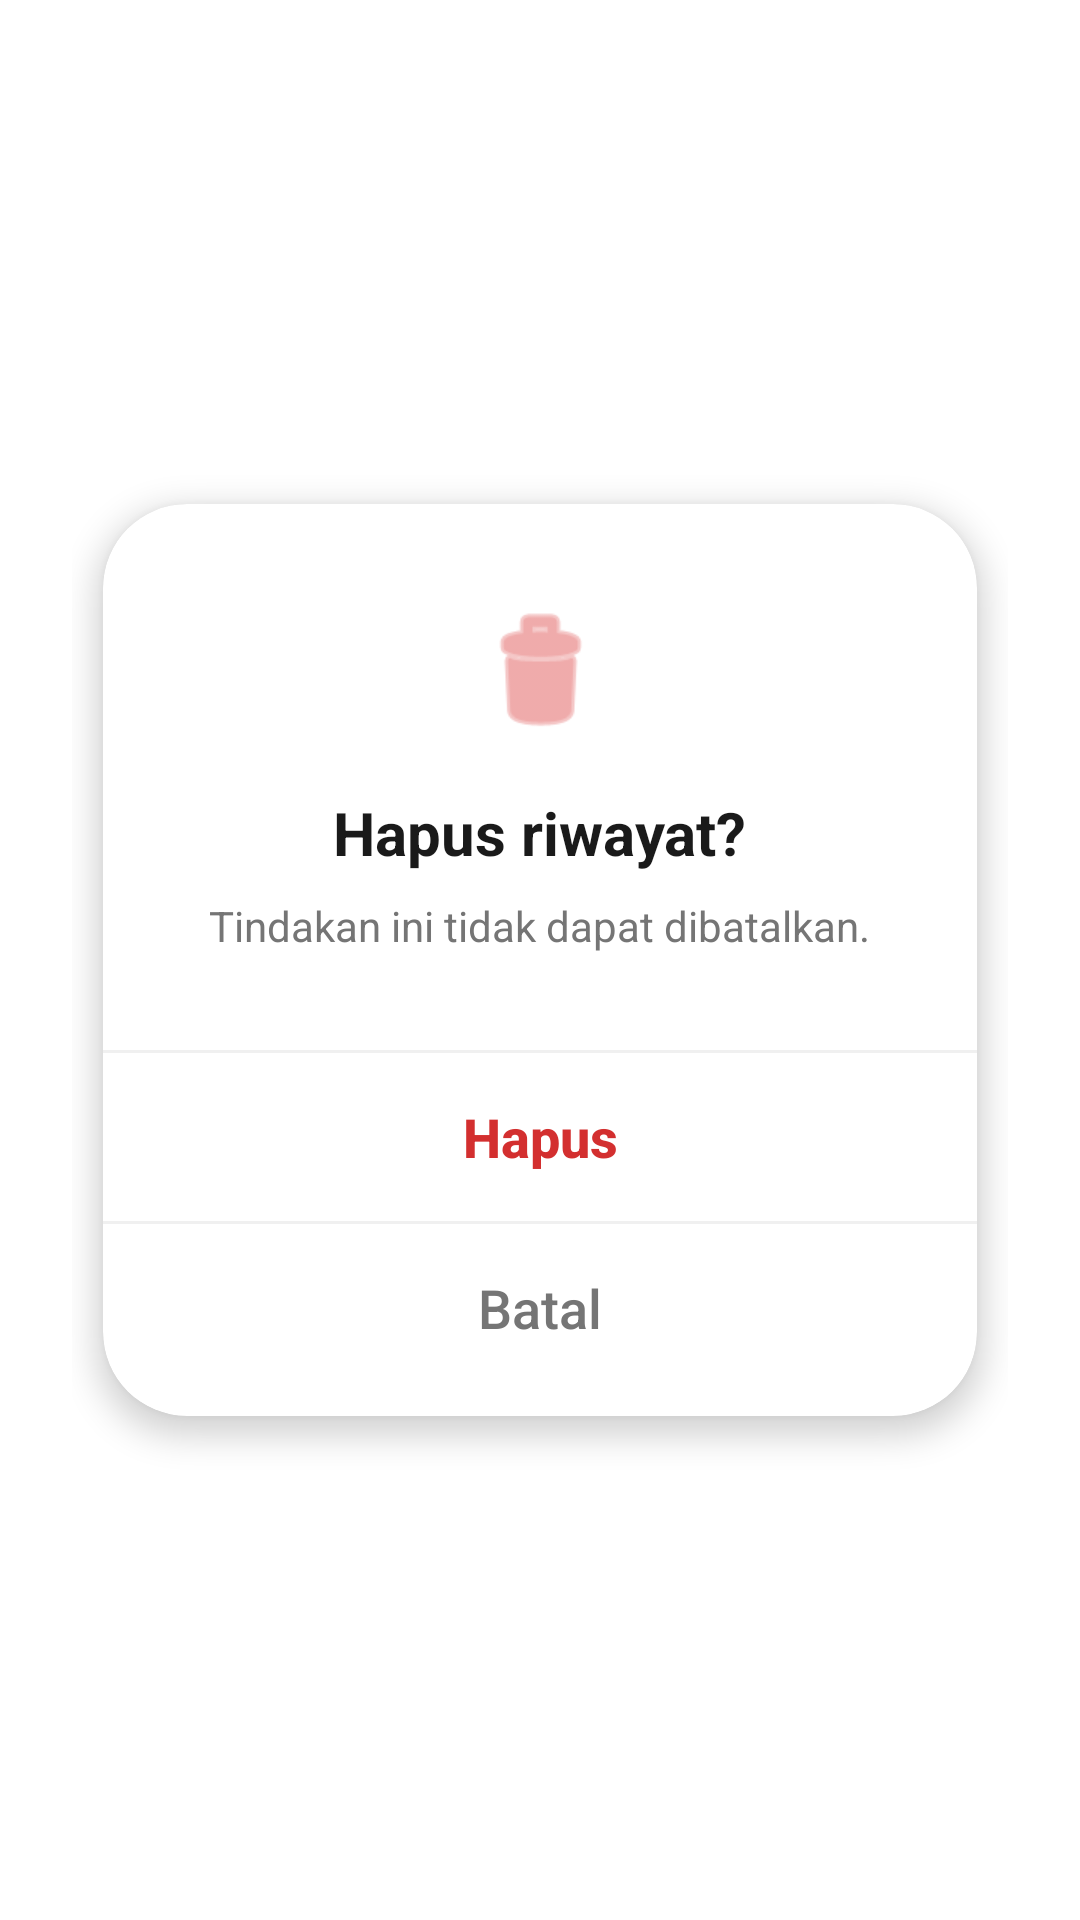

Where to tap for icons on this 1080px x 1920px app screen, as [x,y]:
Delete Icon: [540,670]
